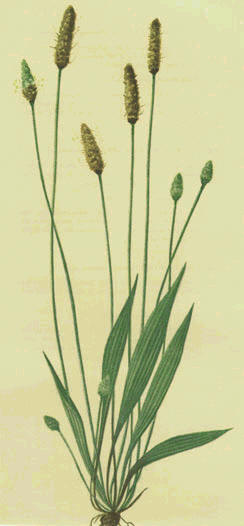buckhorn plantain: (16, 3, 224, 468)
